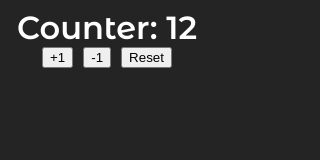
MyCounterApp › Should increment the counter
The width and height of the screenshot is (320, 160).
Click the button "+1" at coordinates (58, 58), box [42, 47, 73, 68]
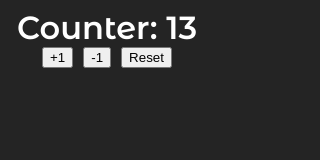
Check: the heading reads "Counter: 13", box [17, 8, 197, 47]
